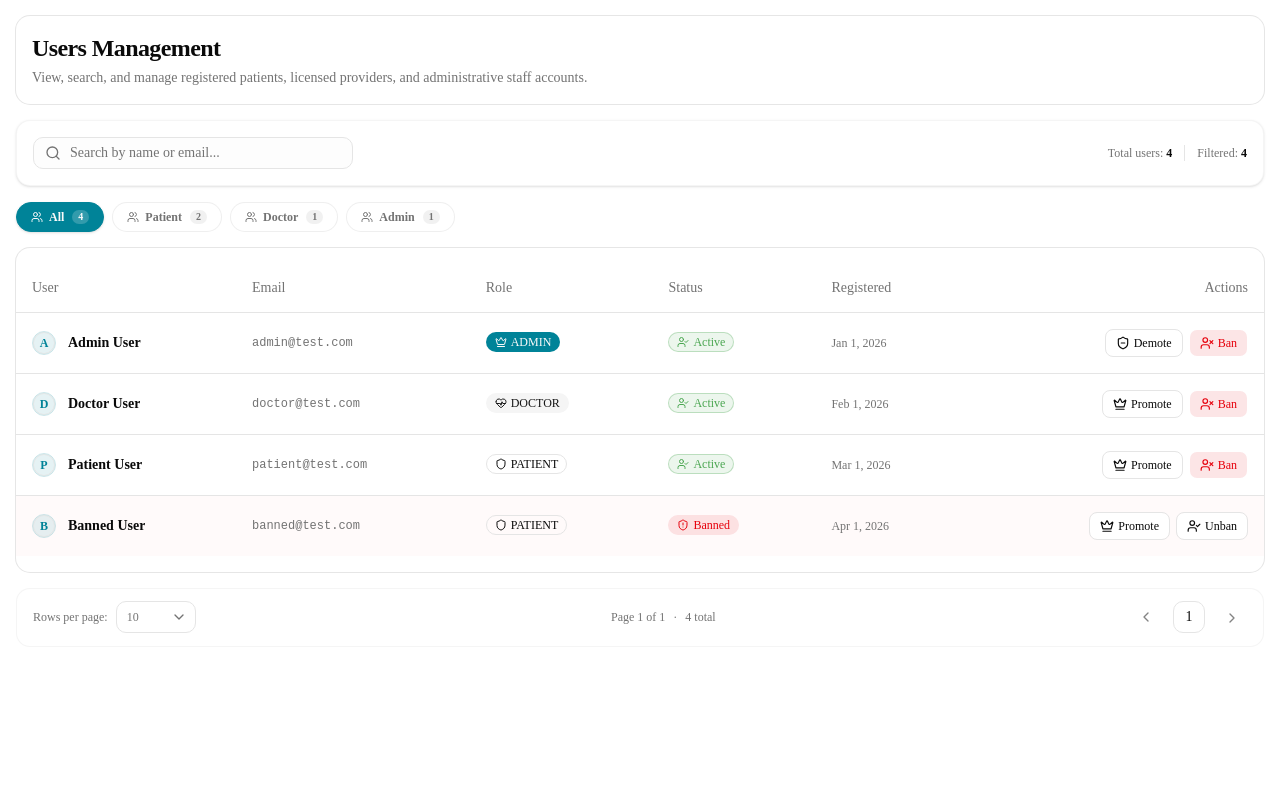
Scenario: AdminUsersPage › opens the role-change dialog for a non-admin user
Expected: the text "Users Management" is shown, [32, 35, 220, 61]
Expected: the text "Rows per page:" is shown, [33, 609, 108, 625]
What coordinates should you click on to do the following:
click the button "Promote" in the row of "Doctor User"
I would click on:
 (1142, 404)
Its box is [1102, 390, 1183, 418].
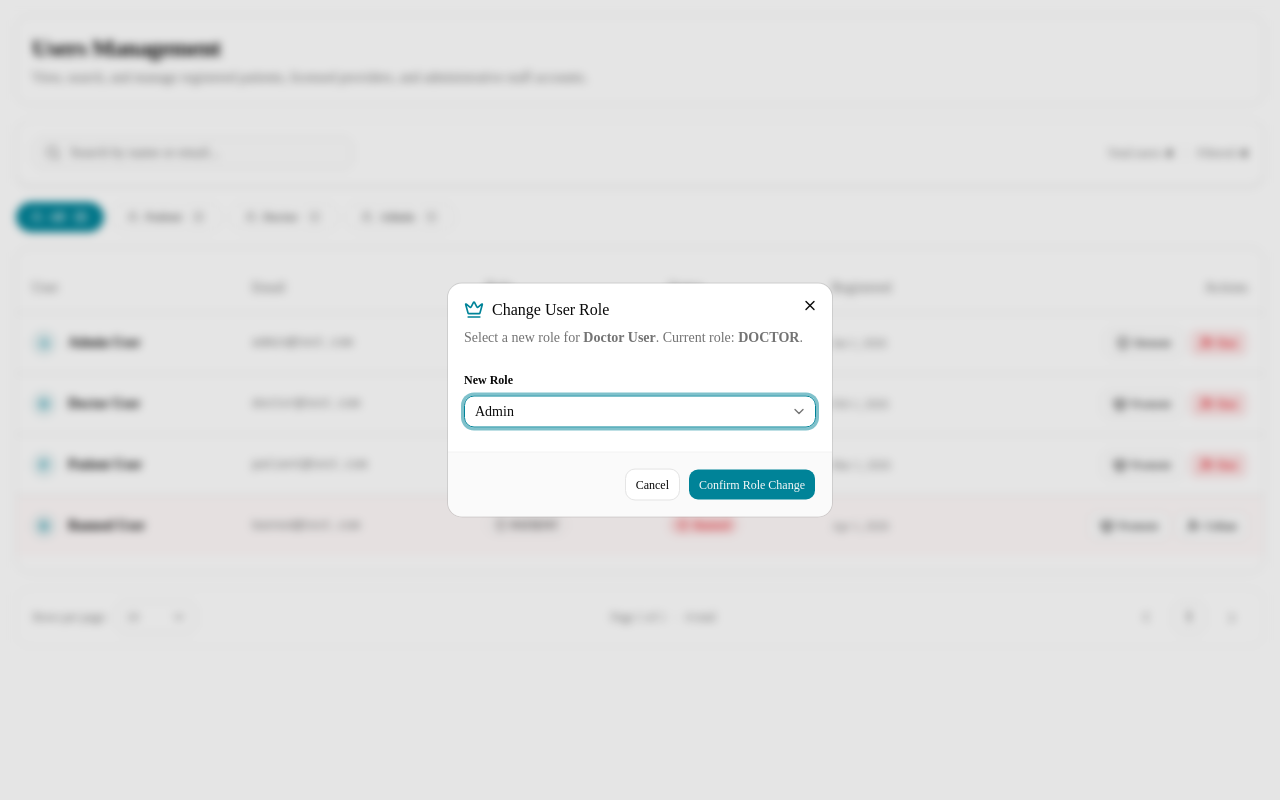
Now the heading "Change User Role" is shown, box [464, 300, 609, 320]
Now the button "Confirm Role Change" is shown, box [688, 468, 816, 500]
